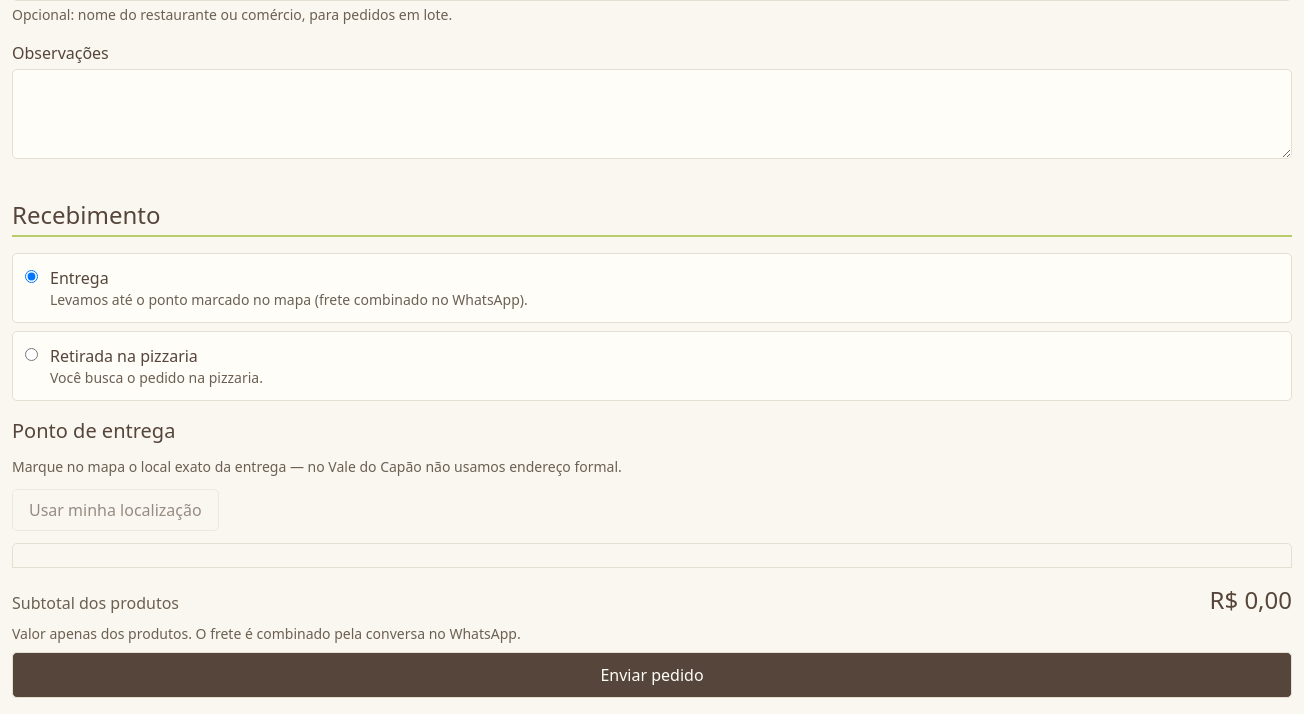
it: <PedidoPimentaForm modo="funcionario"> › cliente novo: exige os dados do cadastro e os envia com o pedido
(page scrolled)
Click the radio button labelled "Retirada na pizzaria Você busca o pedido na pizzaria.": {"x": 32, "y": 354} [25, 348, 38, 361]
(page scrolled)
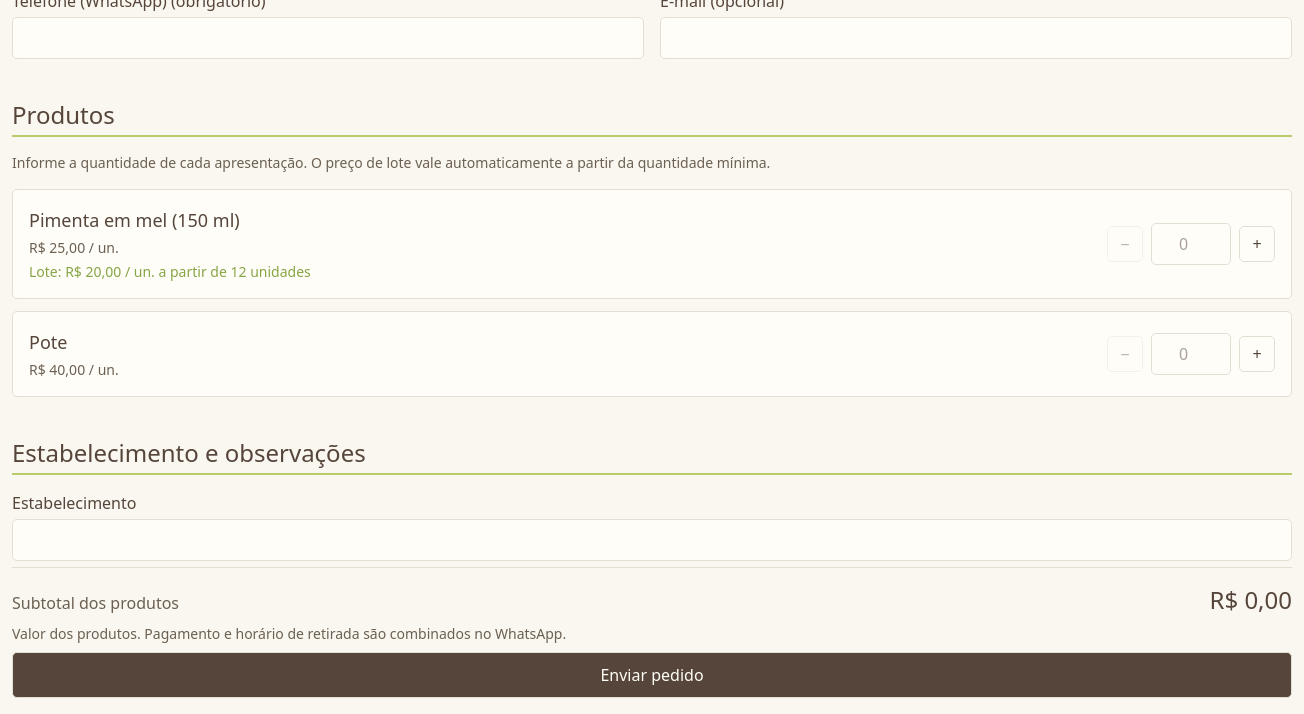
Click the button named "Aumentar quantidade de Pote": {"x": 1257, "y": 354} [1239, 336, 1275, 372]
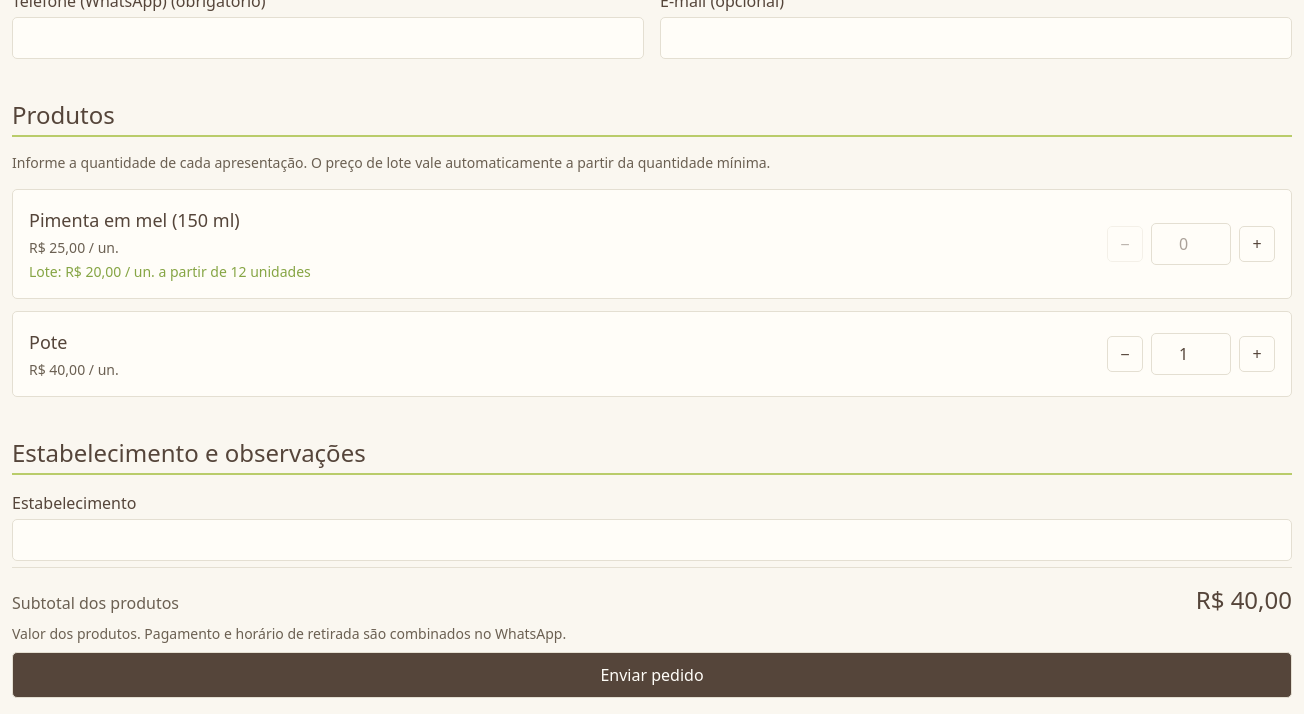
Click the button "Enviar pedido": {"x": 652, "y": 675} [12, 652, 1292, 698]
(page scrolled)
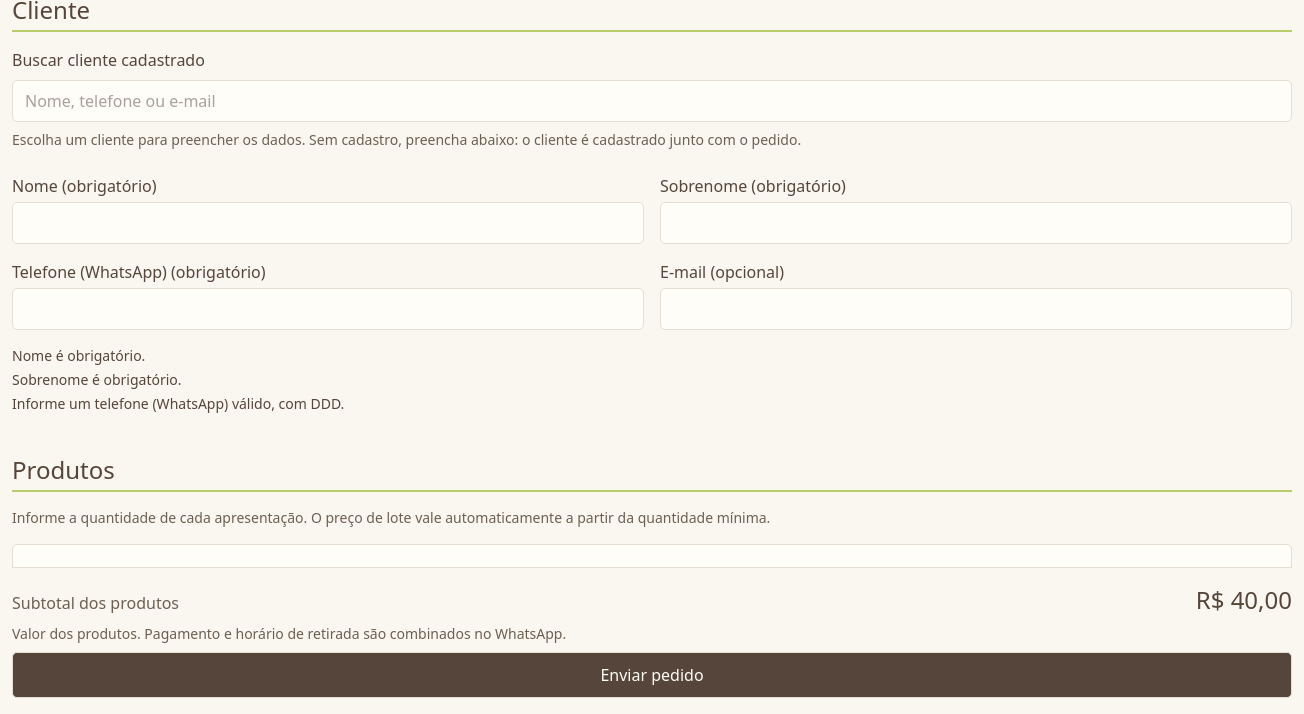
Result: the text "Sobrenome é obrigatório." is shown at [12, 370, 182, 389]
In the field labelled "Nome (obrigatório)": {"x": 328, "y": 223} [12, 202, 644, 244], type "Caio"
In the field labelled "Sobrenome (obrigatório)": {"x": 976, "y": 223} [660, 202, 1292, 244], type "Reis"
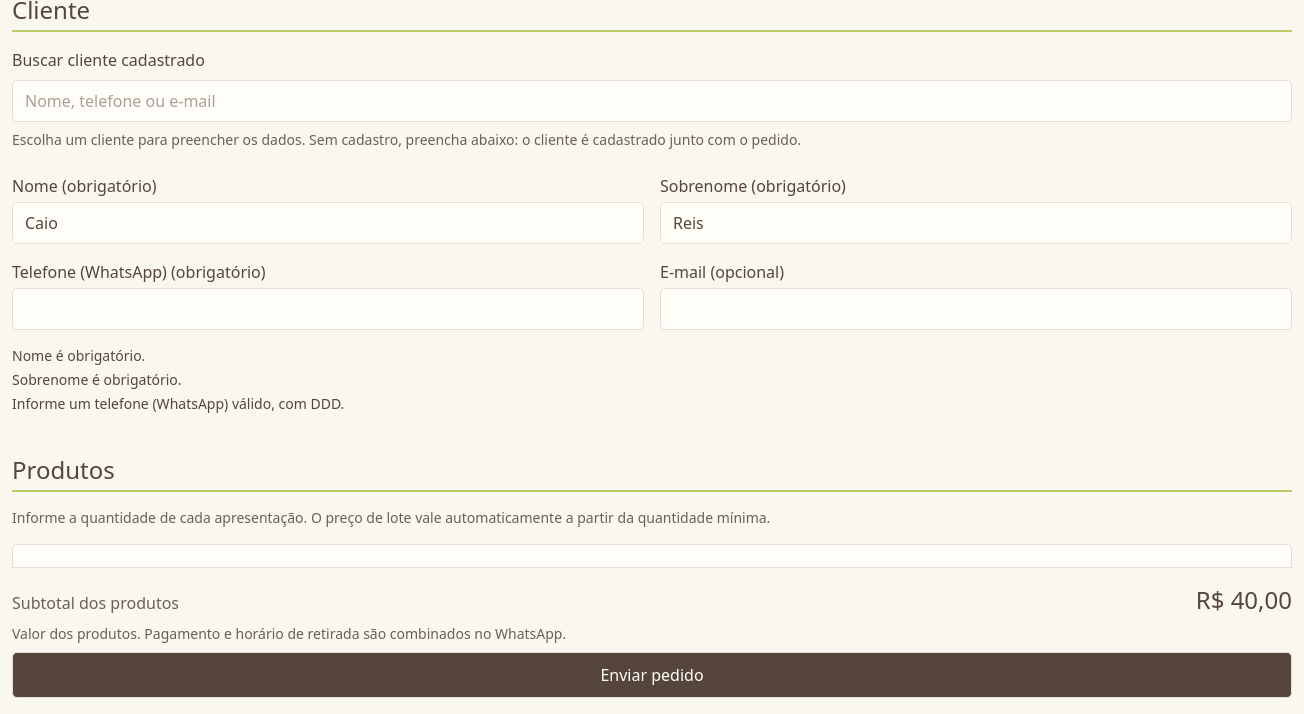
In the field labelled "Telefone (WhatsApp) (obrigatório)": {"x": 328, "y": 309} [12, 288, 644, 330], type "(75) 97777-6666"
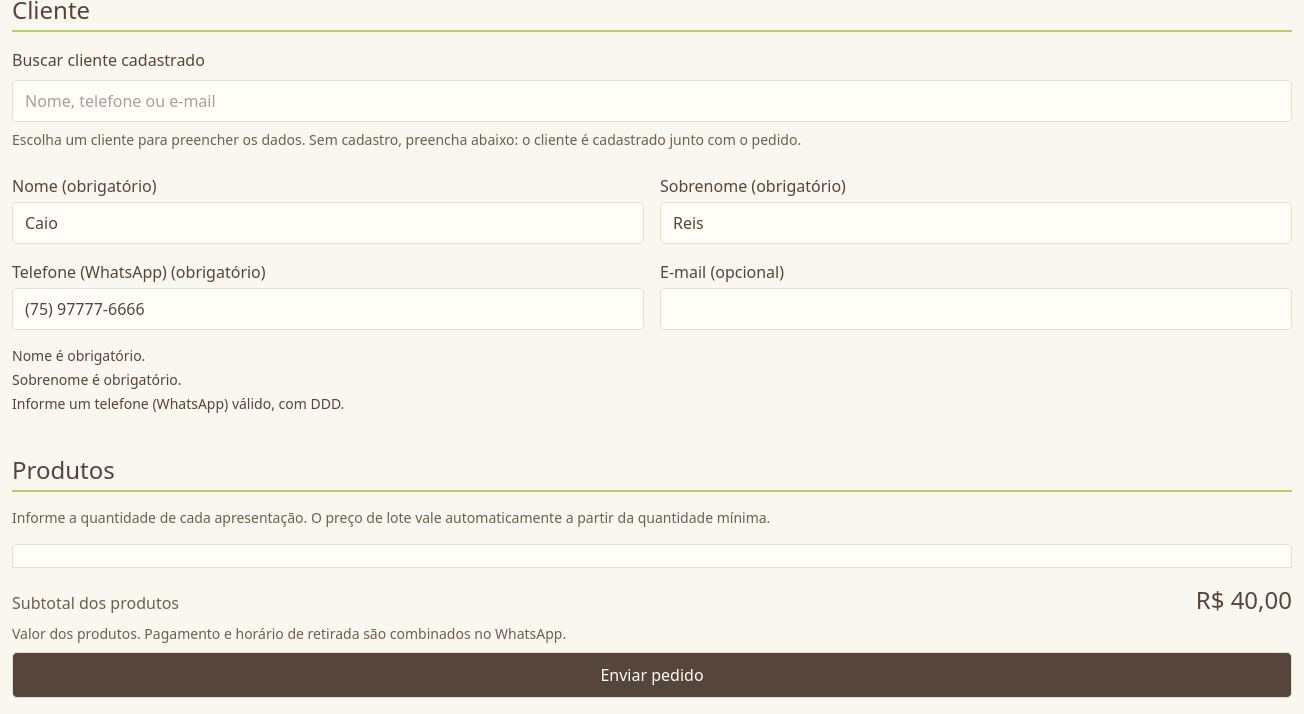
Click the button "Enviar pedido": {"x": 652, "y": 675} [12, 652, 1292, 698]
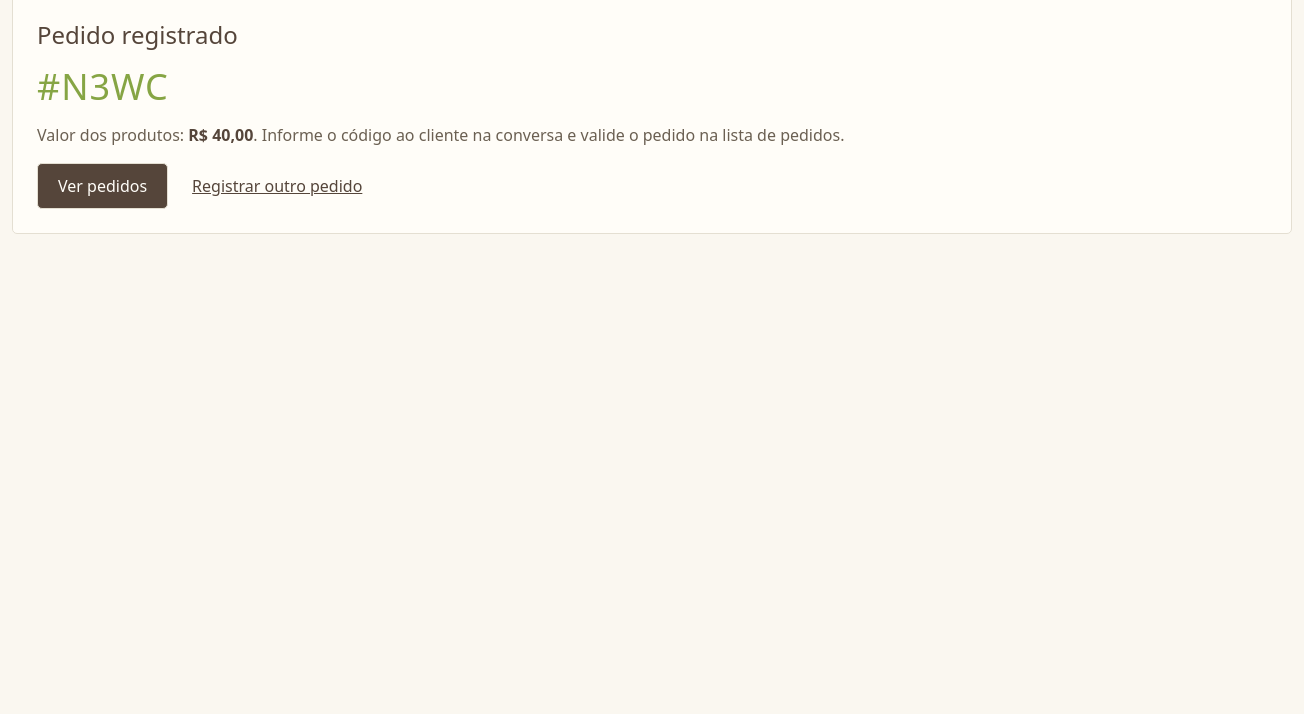
Result: the text "#N3WC" is shown at [37, 62, 169, 111]
